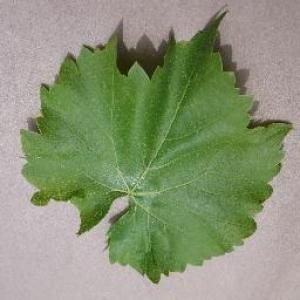Folha: (18, 4, 293, 284)
